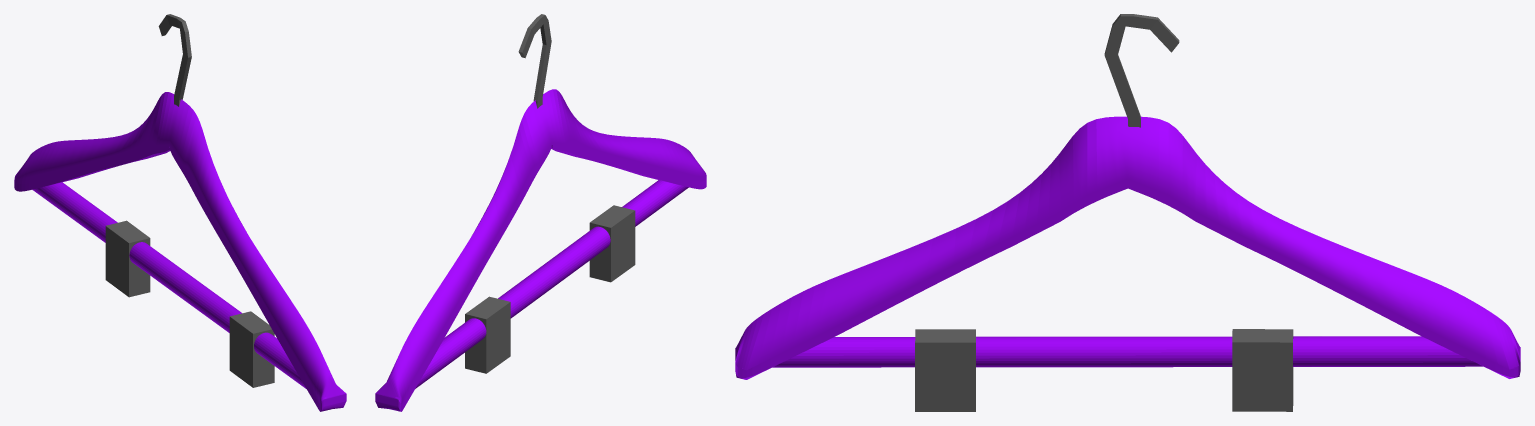
Rendered from Hanger_2.fbx.
3 renders of one model, left to right at view 1: azimuth 30°, elevation 25°; view 2: azimuth 150°, elevation 25°; view 3: azimuth 270°, elevation 25°, orthographic. The views are drawn at different scales.
Visible parts, largest first — view 1: Cube.034, Cylinder.002, Cube.036, Cube.037, Cube.035; view 2: Cube.034, Cylinder.002, Cube.036, Cube.037, Cube.035; view 3: Cube.034, Cylinder.002, Cube.037, Cube.036, Cube.035.
Part boxes in pixels (left/top/right/bottom): Cube.034: left=14, top=92, right=346, bottom=411; Cylinder.002: left=32, top=182, right=306, bottom=388; Cube.036: left=229, top=311, right=274, bottom=387; Cube.037: left=105, top=220, right=150, bottom=297; Cube.035: left=158, top=14, right=191, bottom=106; Cube.034: left=375, top=89, right=706, bottom=411; Cylinder.002: left=415, top=180, right=688, bottom=388; Cube.036: left=589, top=205, right=635, bottom=282; Cube.037: left=465, top=296, right=510, bottom=373; Cube.035: left=518, top=14, right=551, bottom=108; Cube.034: left=735, top=116, right=1520, bottom=379; Cylinder.002: left=772, top=336, right=1482, bottom=367; Cube.037: left=1232, top=329, right=1293, bottom=411; Cube.036: left=915, top=329, right=975, bottom=411; Cube.035: left=1104, top=14, right=1179, bottom=127.
Size of the model in its own units: 8.56 by 95.9 by 175.
